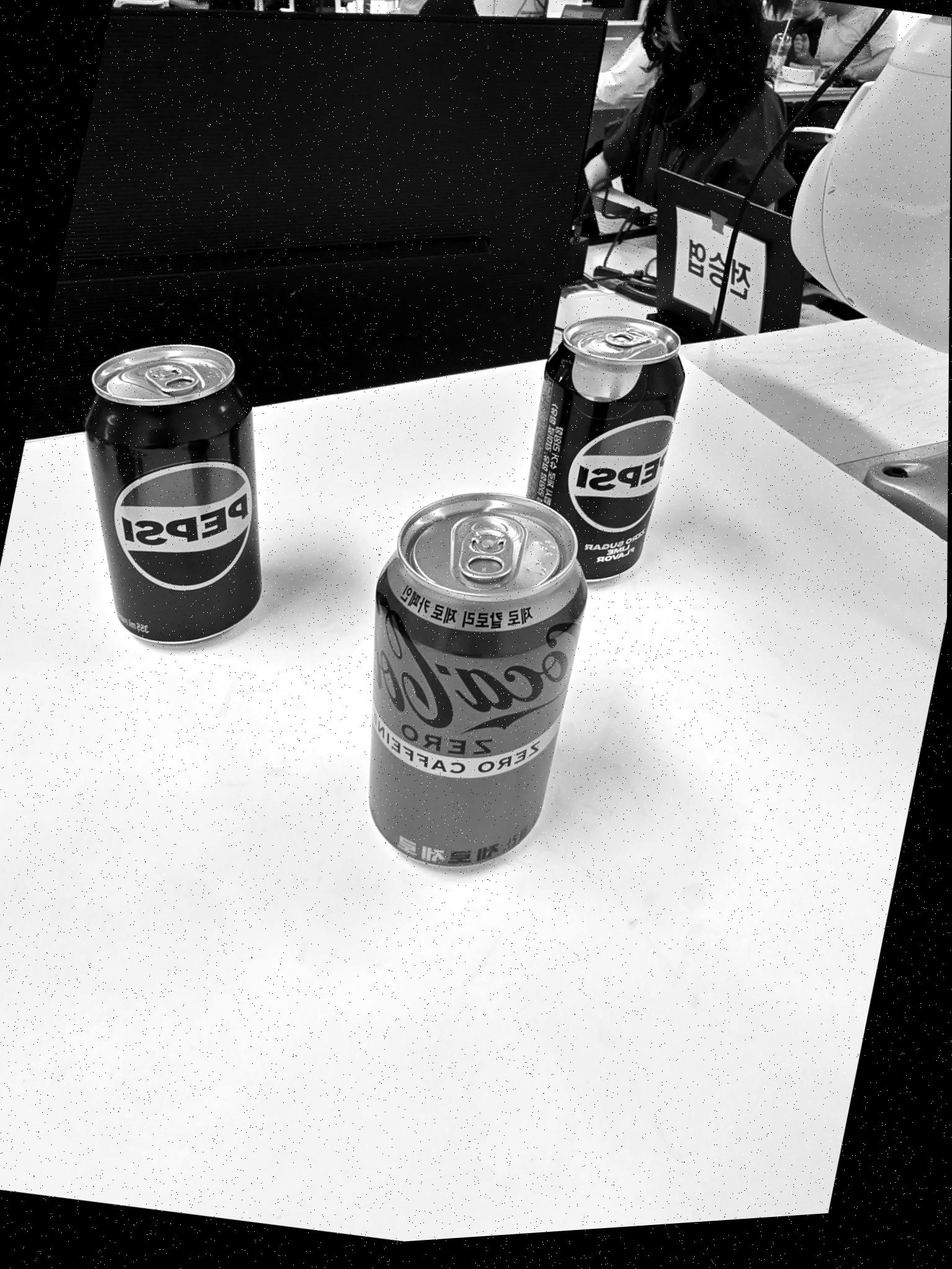can_coke_decaf: (364, 489, 589, 882)
can_pepsi: (78, 342, 268, 655)
can_pepsi_zero: (517, 311, 687, 590)
